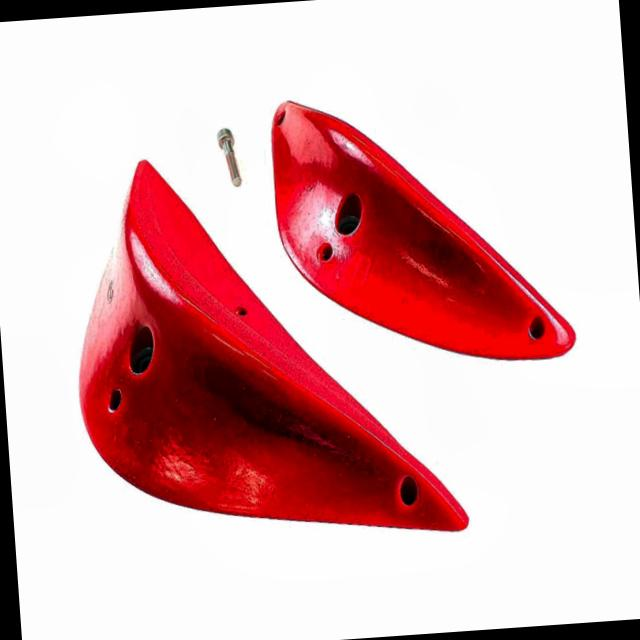Hold: (47, 143, 516, 544), (267, 78, 576, 380)
